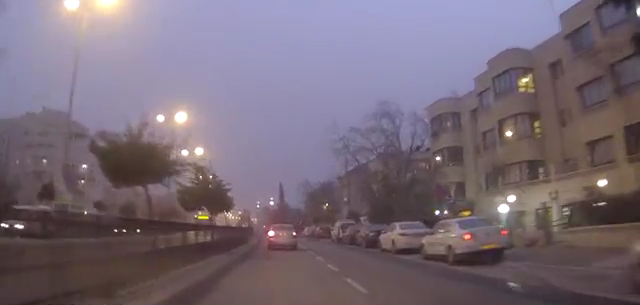bus: (192, 213, 219, 238)
car: (421, 215, 514, 263), (378, 219, 433, 252), (357, 221, 391, 249), (266, 223, 299, 251), (341, 223, 370, 244), (332, 219, 356, 242), (315, 223, 332, 238)
